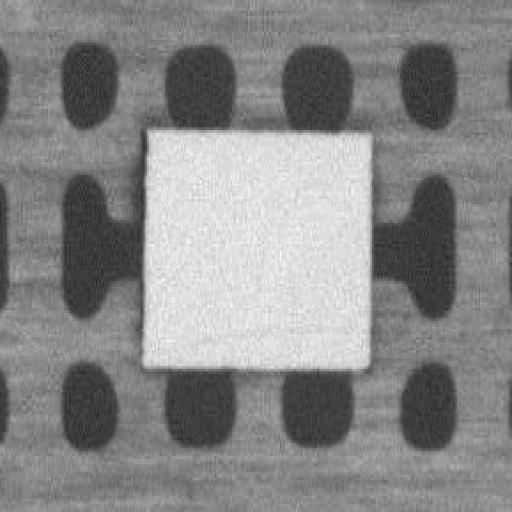DIE_CRACK: (152, 316, 349, 345)
